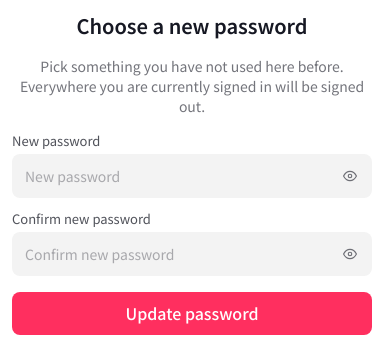
Test: the password reset page › replaces the form when the link is spent
This screenshot has width=389, height=352.
In the password field labelled "New password": (192, 176) [12, 154, 372, 198], type "correcthorse"
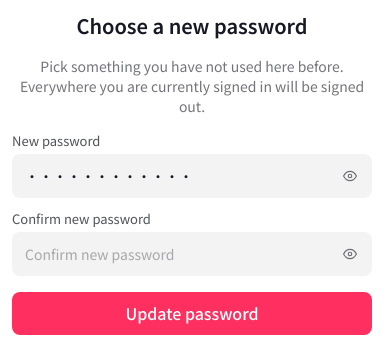
In the password field labelled "Confirm new password": (192, 254) [12, 232, 372, 276], type "correcthorse"
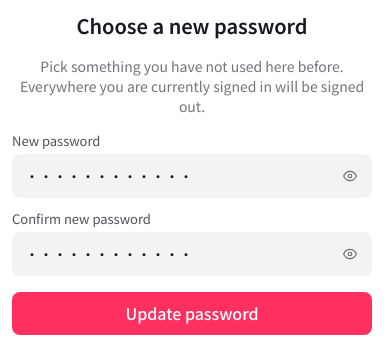
Submit the form, box [12, 132, 372, 335]
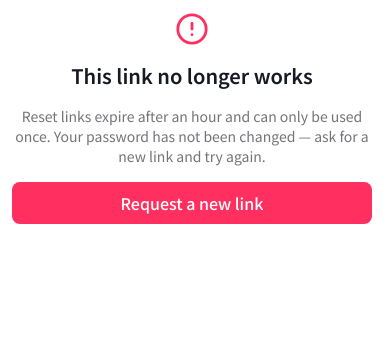
Now the heading "This link no longer works" is shown, box [71, 62, 313, 90]
Now the form is gone
Now the text "password has not been changed" is shown, box [15, 106, 369, 166]
